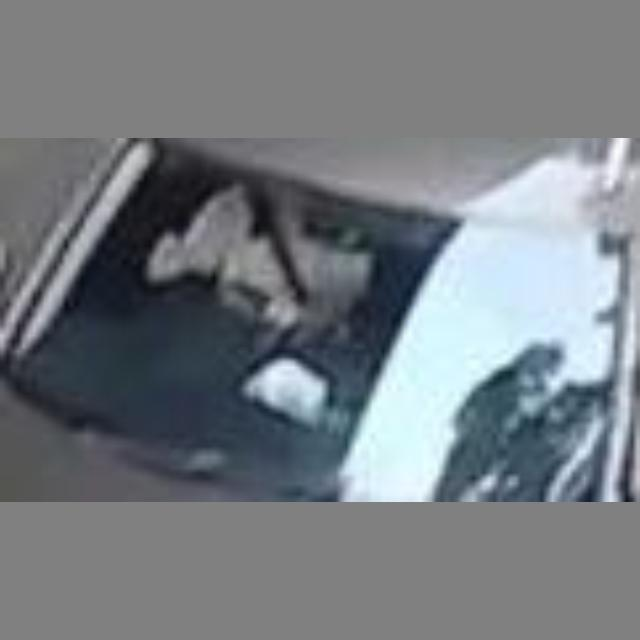pakai: (175, 180, 365, 365)
